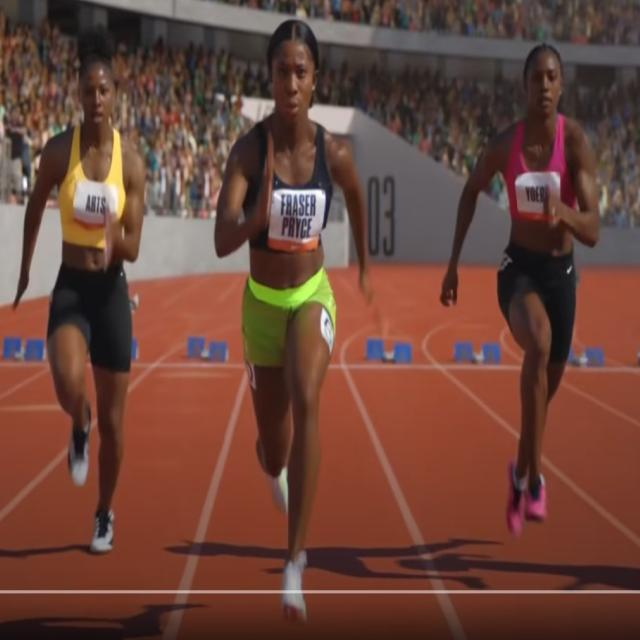running: (213, 19, 373, 626), (436, 44, 604, 534), (12, 23, 147, 555)
